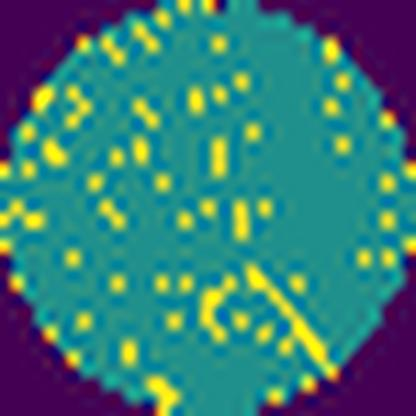Scratch: (244, 261, 339, 381), (193, 268, 242, 348)
